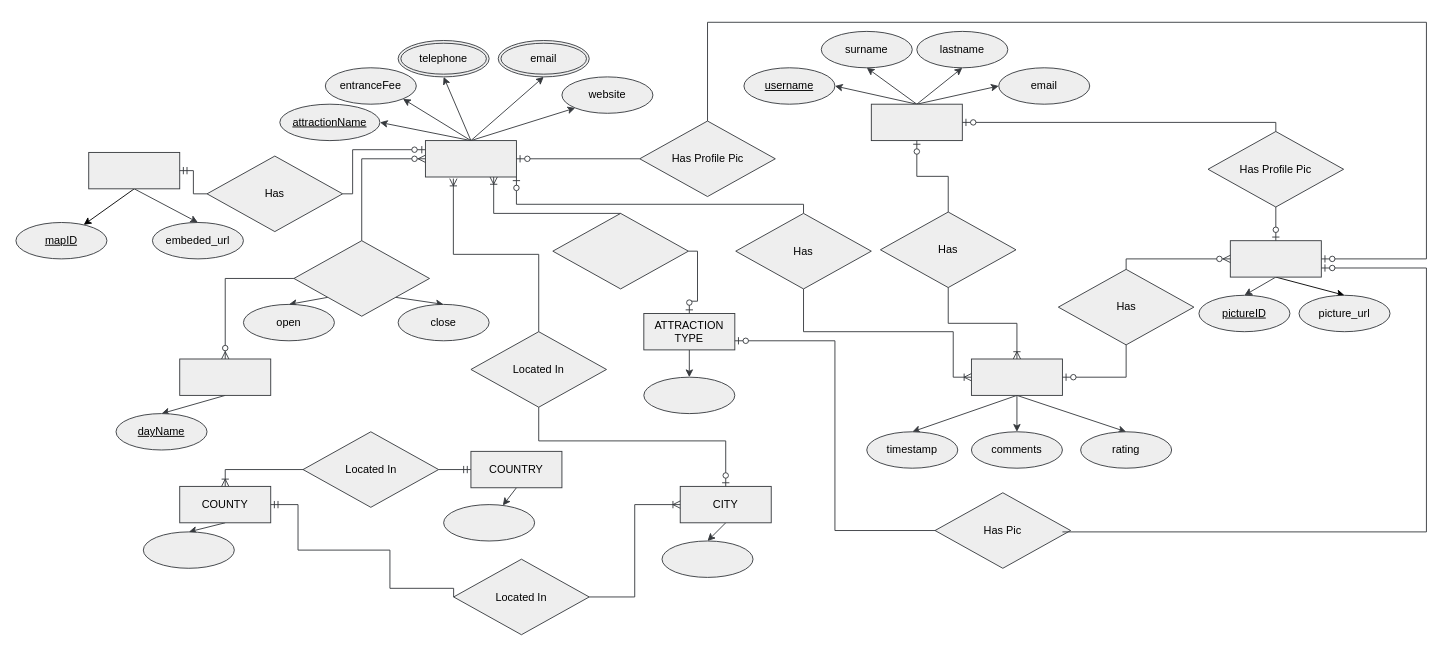
Some shapes in this 1450 by 651 pixel diagram are drawn without their labels. Each missing label, with the box of its shape:
ATTRACTION: (425, 140, 516, 177)
cityName: (661, 540, 753, 577)
countryName: (443, 504, 535, 541)
countyName: (142, 531, 234, 568)
DAY: (179, 358, 271, 395)
Is Type Of: (552, 212, 688, 289)
MAP: (88, 152, 180, 189)
Operates: (293, 240, 430, 316)
PICTURE: (1229, 240, 1321, 277)
REVIEW: (971, 358, 1062, 395)
typeName: (643, 376, 735, 414)
USER: (870, 103, 962, 141)
